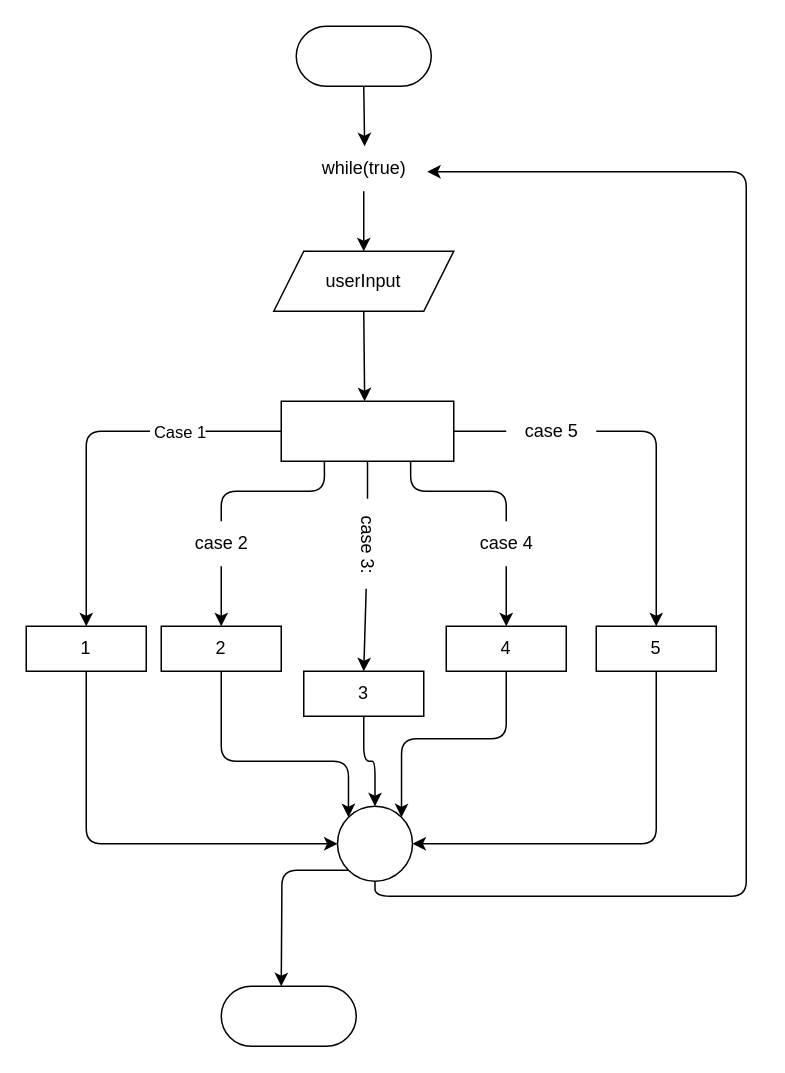
This 785x1073 diagram has some shape labels left out. Here are the shapes that lost their labels. From the top down, the centre of each, then its label:
[363,55]: Start
[367,430]: switch(1-5)
[288,1015]: End
